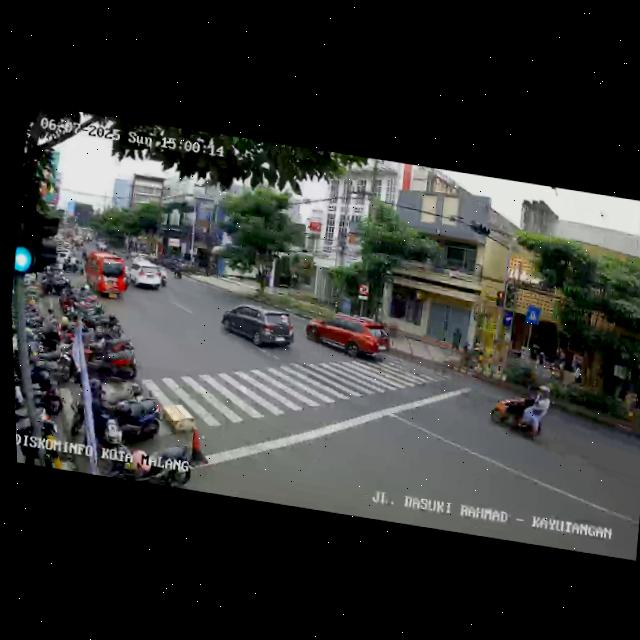car: (306, 307, 391, 365), (217, 298, 298, 358), (79, 249, 129, 302), (122, 259, 163, 293)
motorcycle: (486, 378, 554, 444)
